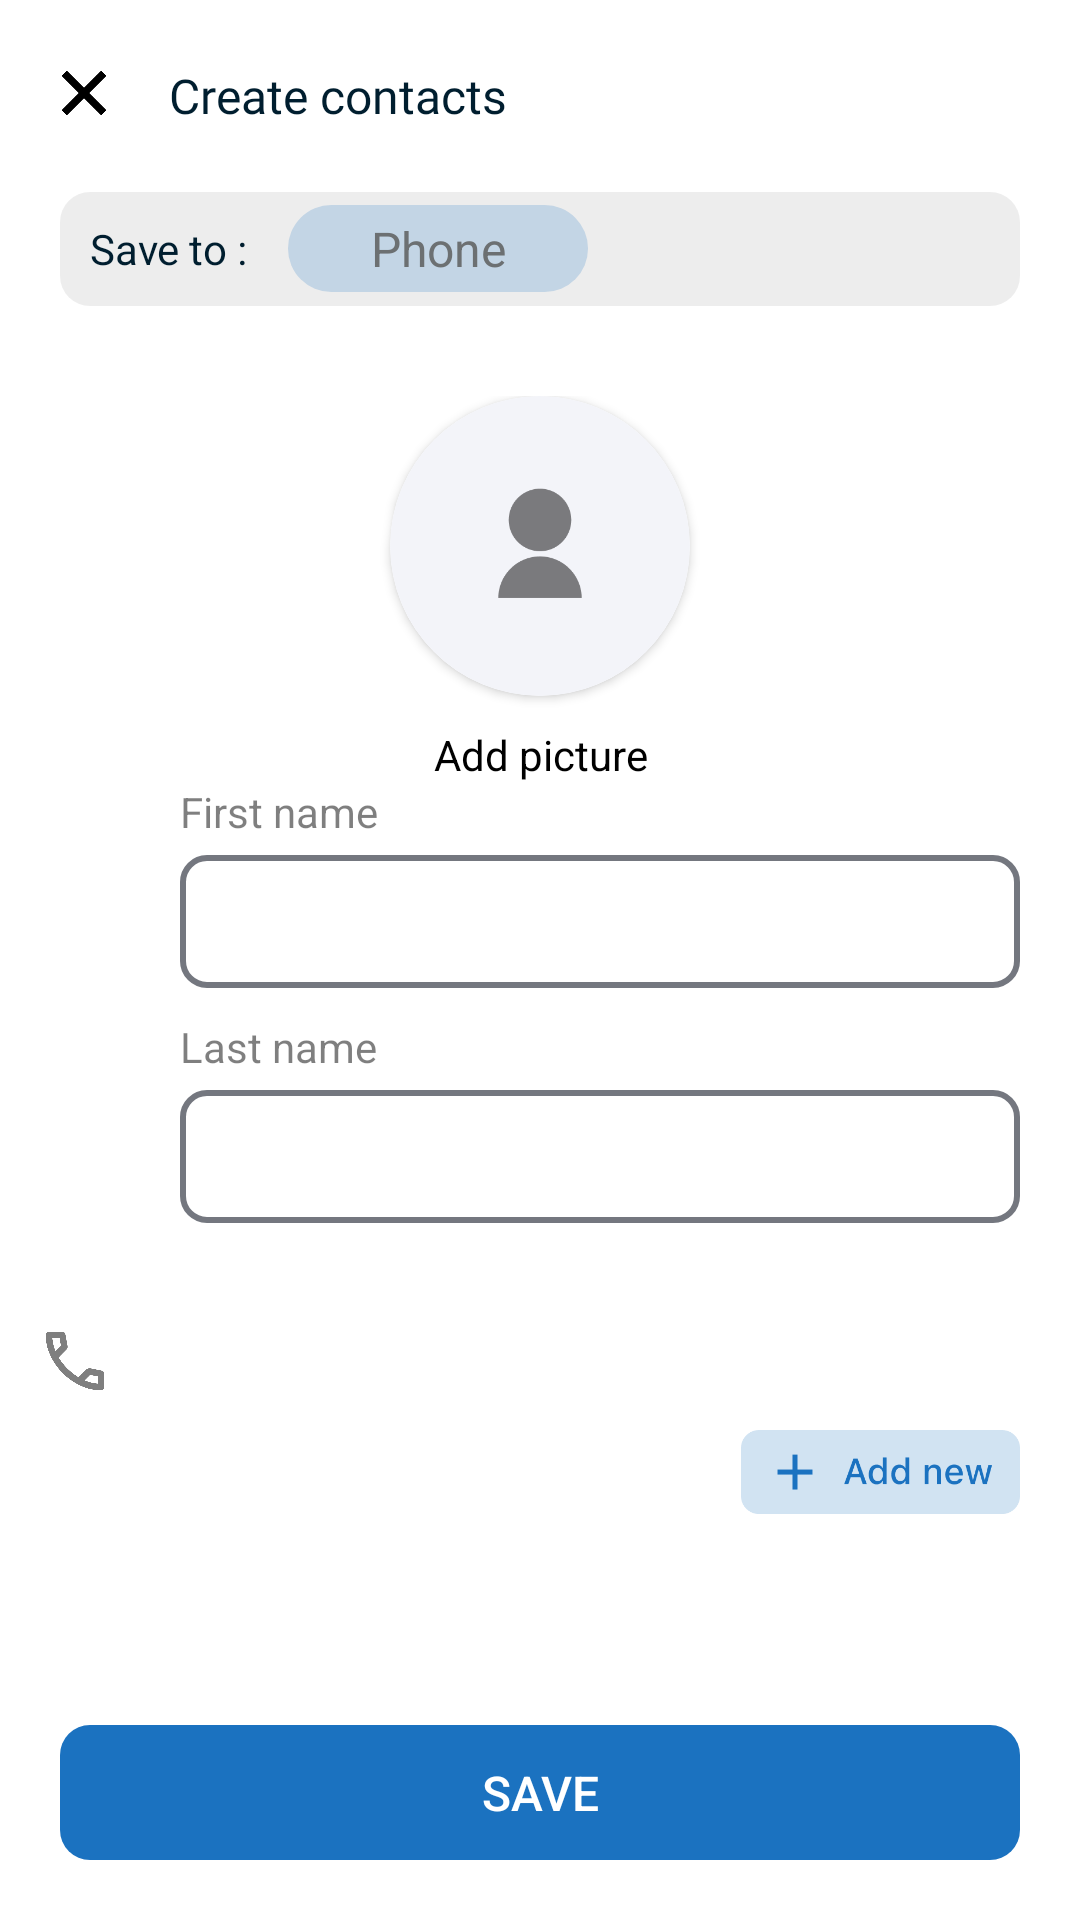

Icon click points for this 1080px x 1920px phone screenshot, format point (x, y):
call: point (75, 1361)
crooss: point (84, 93)
